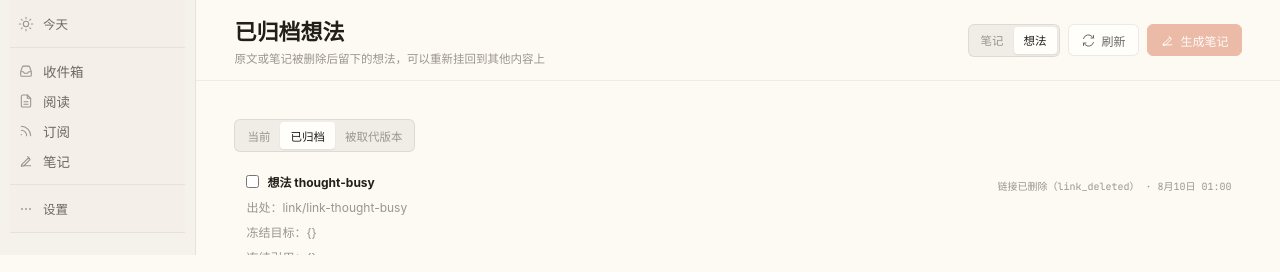
Test: ThoughtHistorySurface › keeps creation busy while the note request is pending
Expected: the text "想法 thought-busy" is shown, [267,173,375,190]
What coordinates should you click on to do the following:
click the checkbox named "选择想法 thought-busy"
I would click on:
 (253, 182)
Its box is [246,175,259,188].
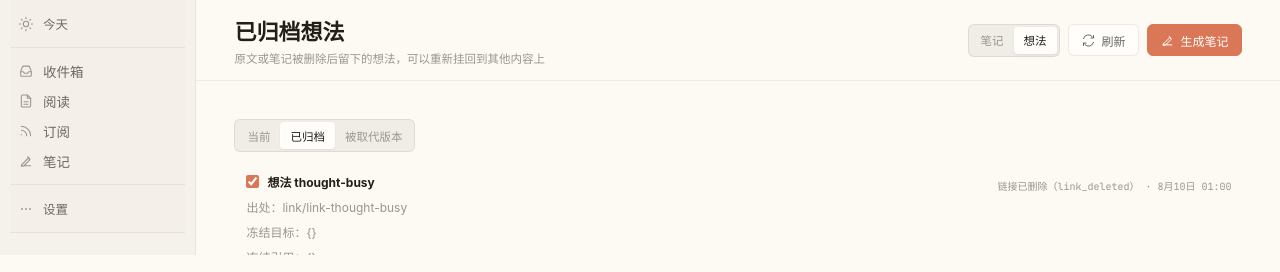
What coordinates should you click on to do the following:
click the button "生成笔记"
I would click on:
 (1194, 40)
Its box is [1147,24,1242,56].
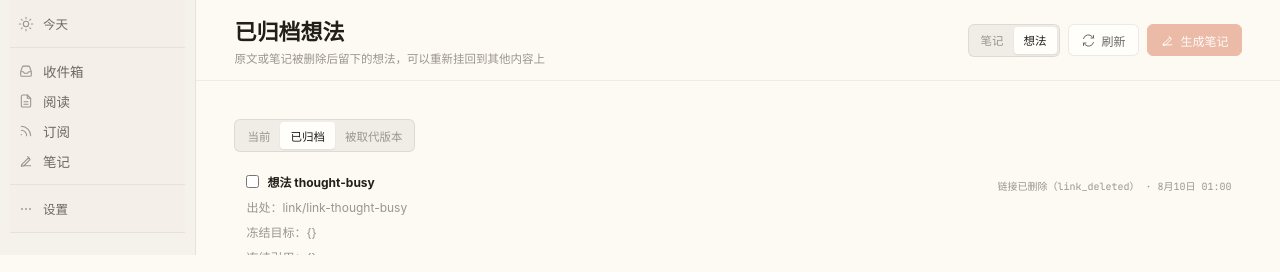
Result: the button "生成笔记" is disabled at [1147,24,1242,56]
